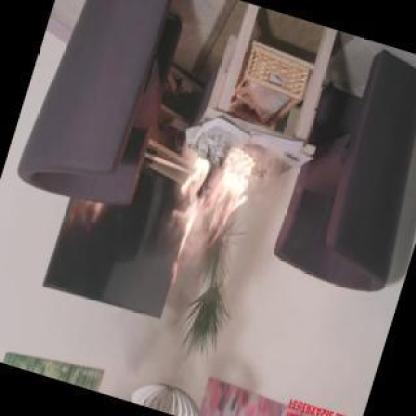Fire: (174, 152, 258, 240)
